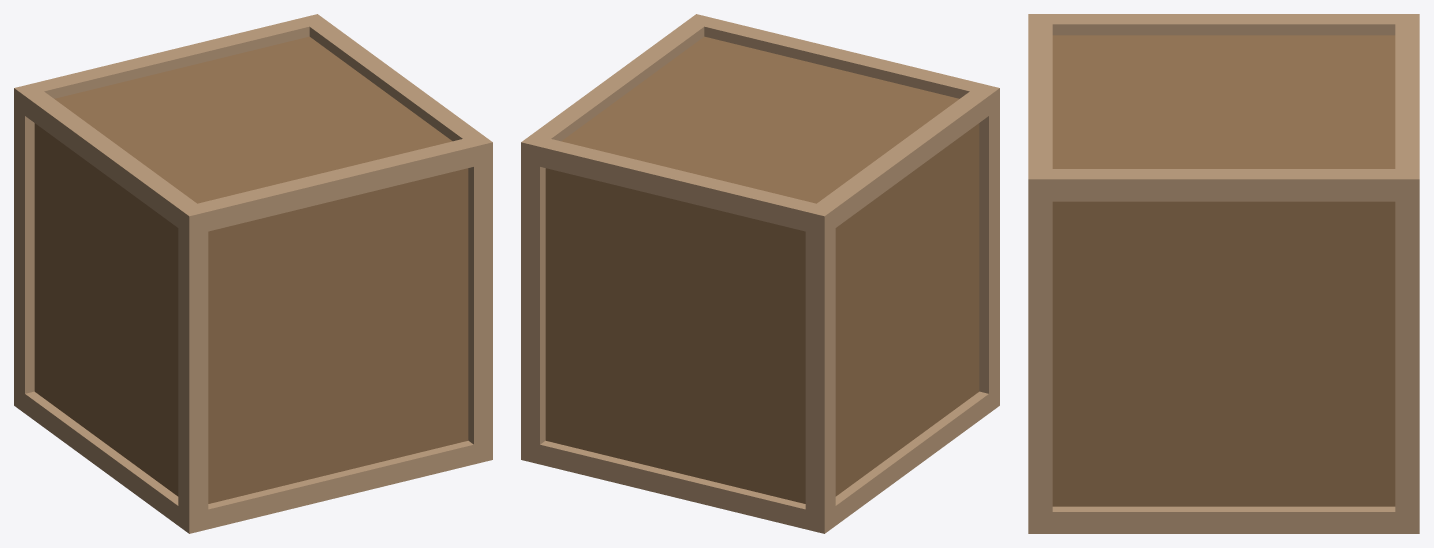
File: vox_crate.glb
3 renders of one model, left to right at view 1: azimuth 30°, elevation 25°; view 2: azimuth 150°, elevation 25°; view 3: azimuth 270°, elevation 25°, orthographic. The views are drawn at different scales.
Parts seen in each view (by area): view 1: Object_124; view 2: Object_124; view 3: Object_124.
Boxes of the visible parts, box(x1,y1,x2,y2) form: Object_124: box(14, 14, 492, 533); Object_124: box(521, 14, 999, 533); Object_124: box(1028, 14, 1419, 533).
Size of the model in its own units: 0.8 by 0.8 by 0.8.
Materials: 1 (1 with a texture image).
